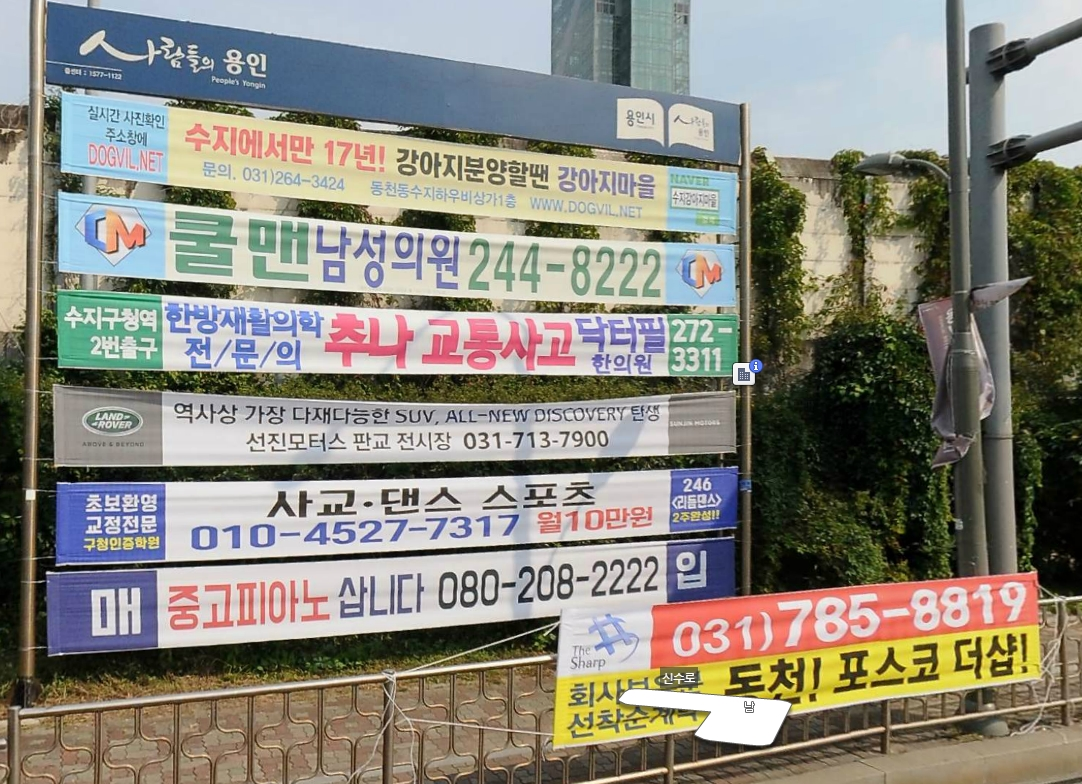banner: (55, 90, 742, 240), (541, 564, 1059, 756), (25, 456, 738, 573), (52, 190, 740, 308), (43, 538, 741, 651), (17, 363, 768, 458), (45, 281, 749, 381)
